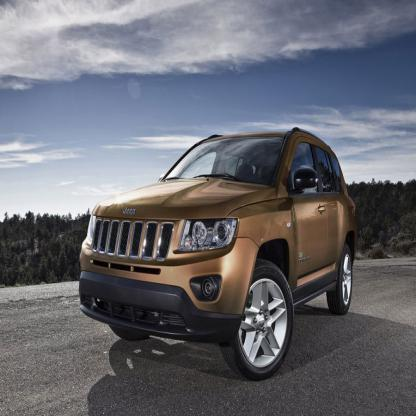Vehicle: (78, 128, 360, 381)
